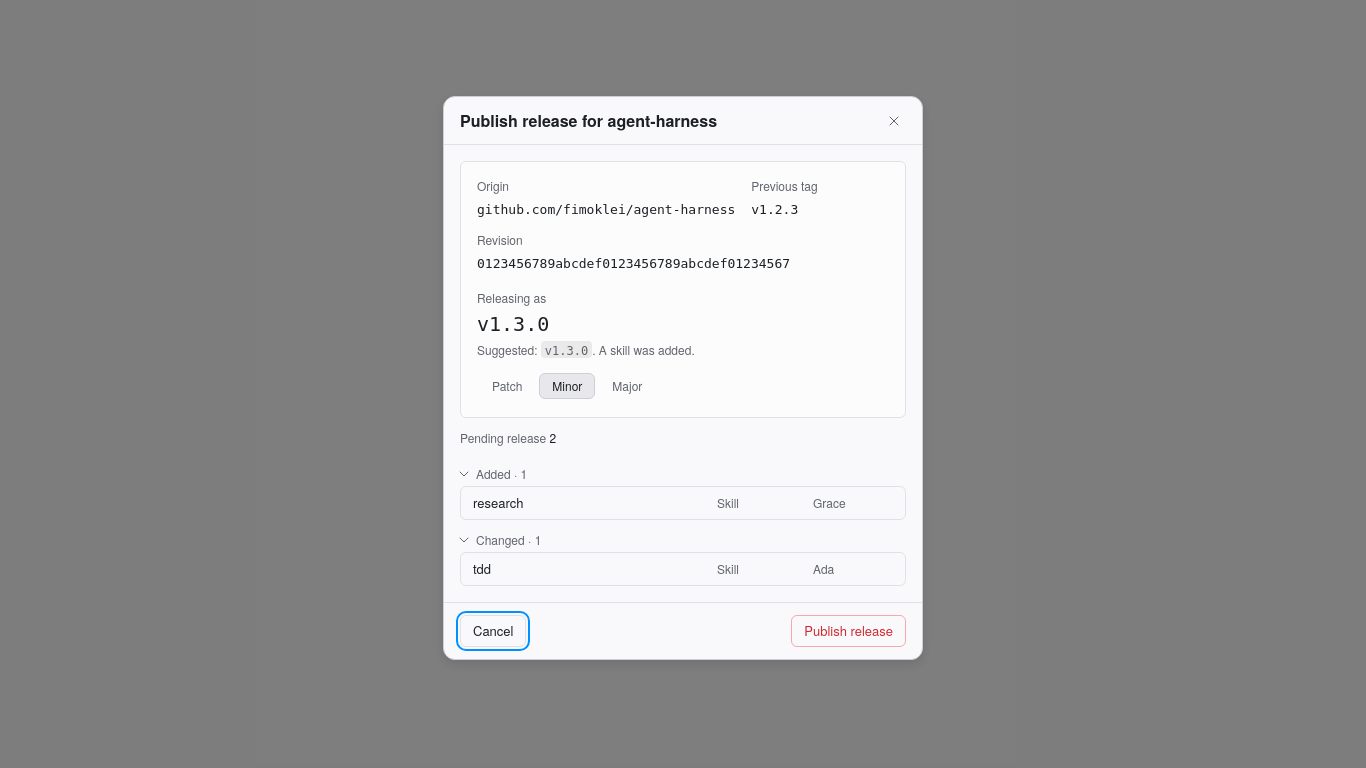
it: ReleaseDialog › keeps Maestro's proposal readable after the author overrides it
Click the button "Major". click: point(627, 386)
box: 599,373 -> 655,399
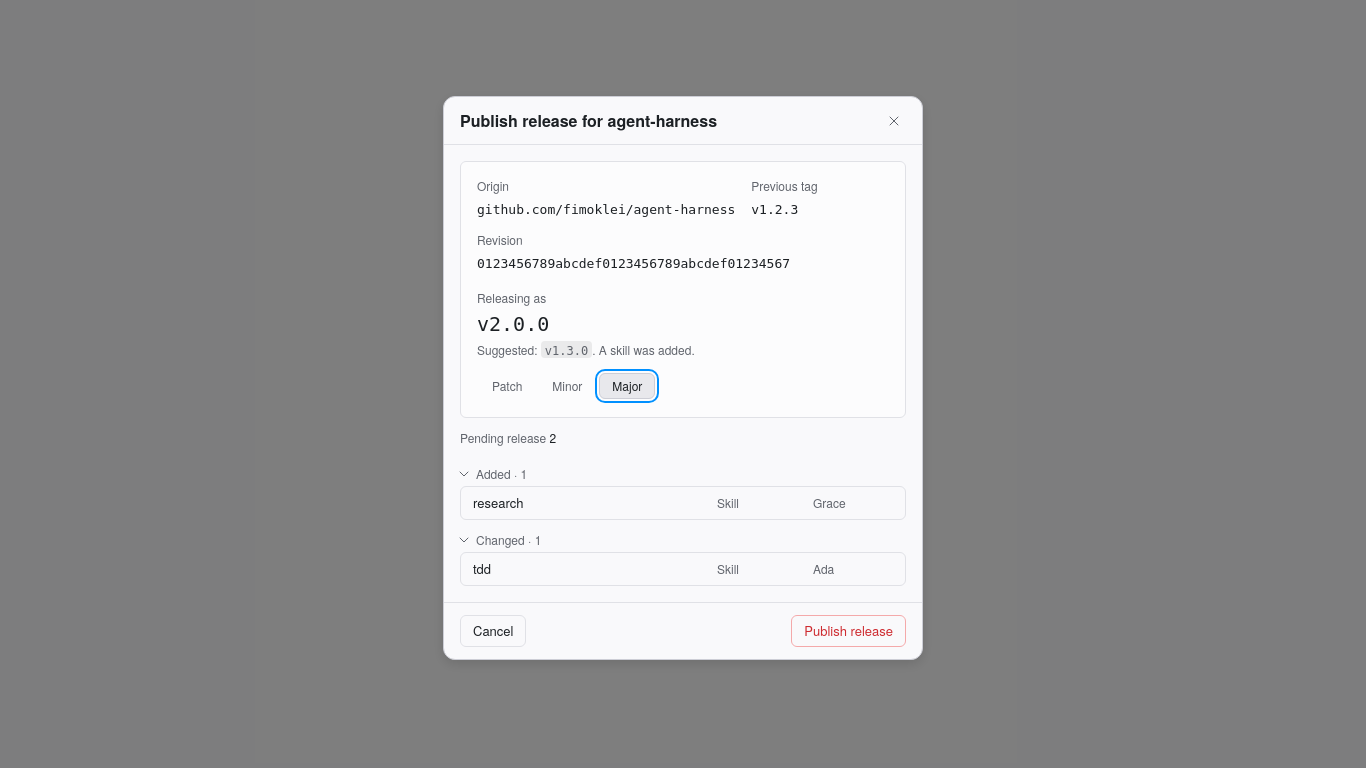
Check: the text "v2.0.0" is shown, box 477,312 -> 549,336
